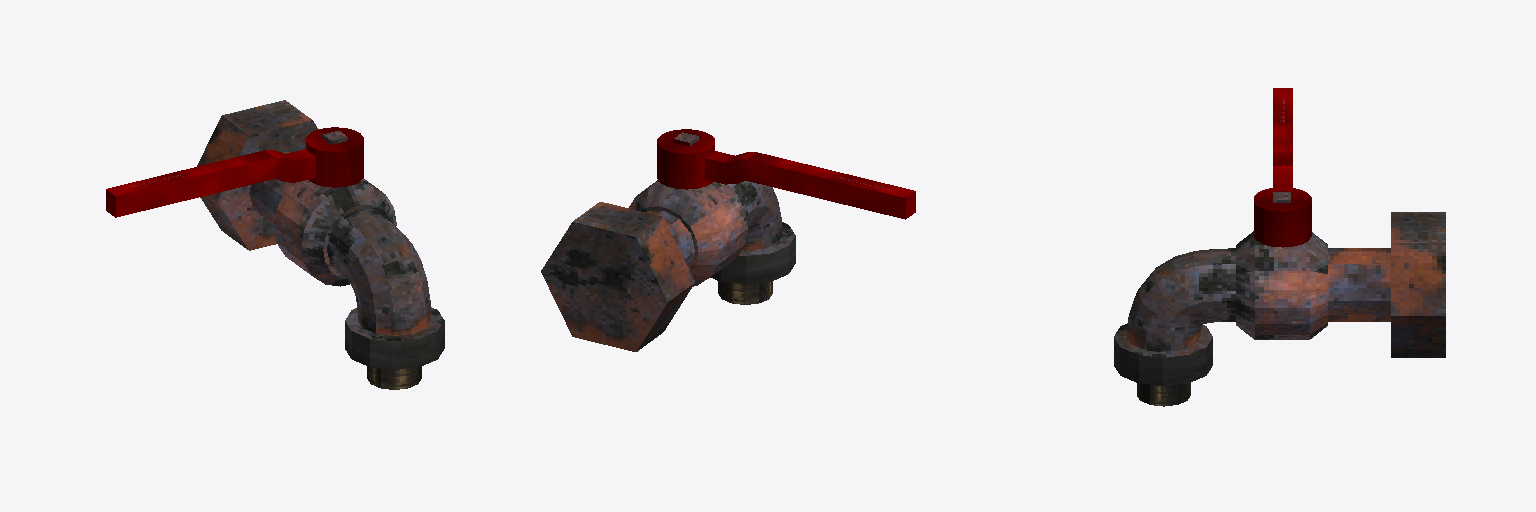
3 renders of one model, left to right at view 1: azimuth 30°, elevation 25°; view 2: azimuth 150°, elevation 25°; view 3: azimuth 270°, elevation 25°, orthographic.
Parts seen in each view (by area): view 1: Mesh.001_Mesh.017_Line01.001; view 2: Mesh.001_Mesh.017_Line01.001; view 3: Mesh.001_Mesh.017_Line01.001.
Part boxes in pixels (x1,y1,x2,y2): Mesh.001_Mesh.017_Line01.001: (106,100,444,389); Mesh.001_Mesh.017_Line01.001: (541,129,915,351); Mesh.001_Mesh.017_Line01.001: (1114,88,1445,406).
Size of the model in its own units: 0.3735 by 0.2469 by 0.3731.
Materials: 1 (1 with a texture image).